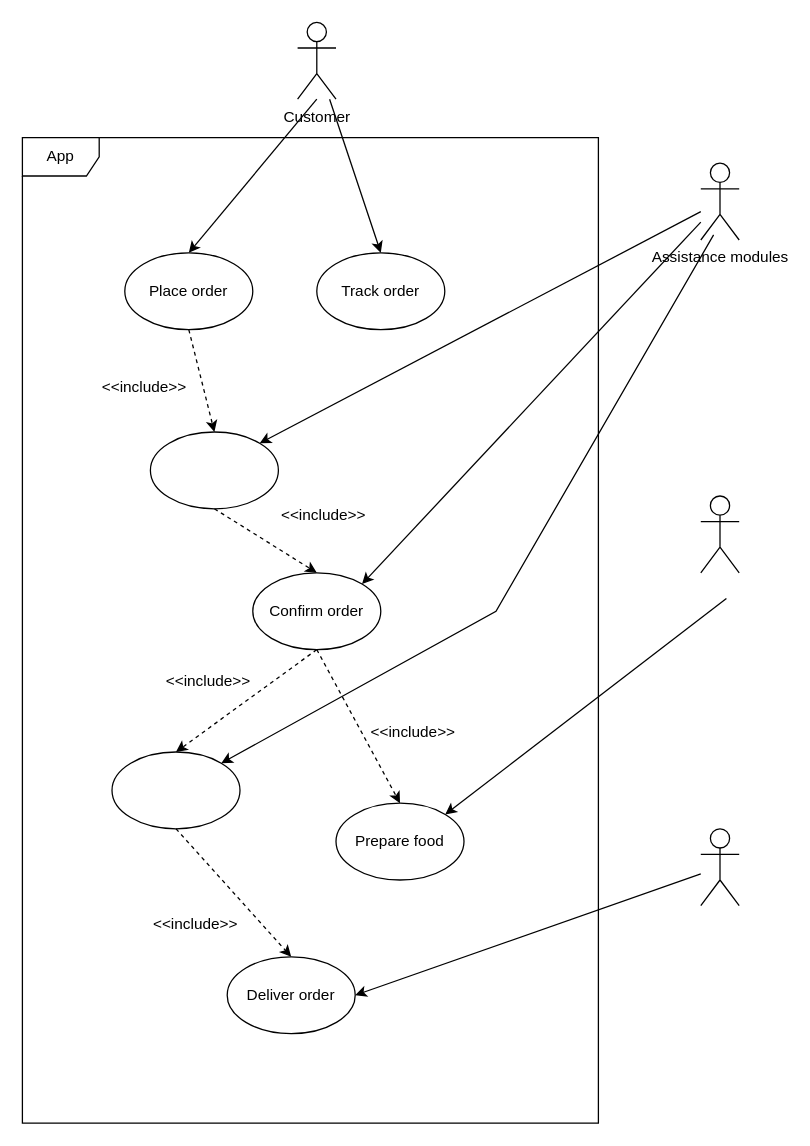
The diagram is 810 pixels wide and 1146 high, and some of its shapes have lost their labels. The shapes that lost their labels are listed below. From the top down, each one's box as (x1, y1, x2, y2) in pixels, then its label:
(149, 431, 278, 509): Process payment
(700, 495, 739, 573): Restaurant
(111, 751, 240, 829): Assign delivery
(700, 828, 739, 906): Delivery person
